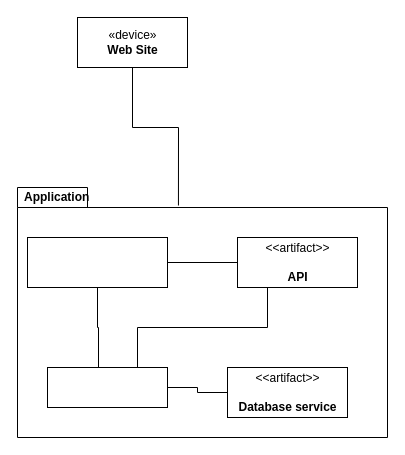
The diagram is 405 pixels wide and 455 high, and some of its shapes have lost their labels. Each missing label, with the centre of its shape:
"<<artifact>> Login Service" belongs at (107,387).
"<<artifact>> User Services" belongs at (97,262).
